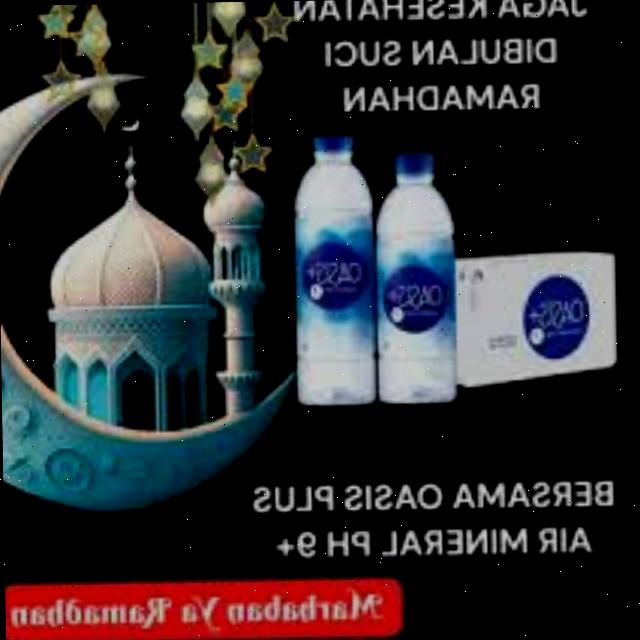trash: (288, 131, 380, 408), (372, 147, 461, 406)
